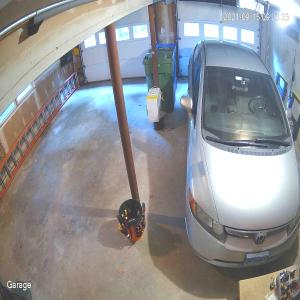garbage bin: (142, 43, 177, 113)
honda civic: (179, 38, 300, 268)
tool bucket: (117, 198, 146, 242)
